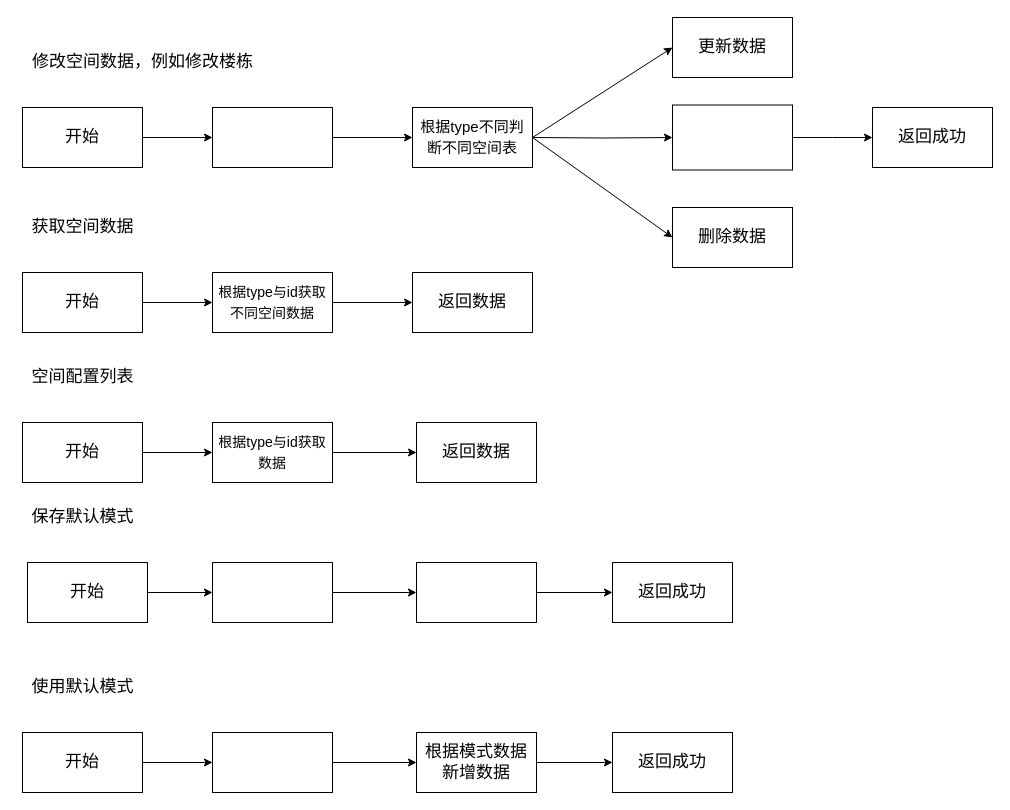
The diagram is 1010 pixels wide and 810 high, and some of its shapes have lost their labels. The centre of each missing label's shape, as x and y in pixels:
"保存数据作为一个默认模式" belongs at point 476,592.
"发送模式id与使用次数" belongs at point 272,762.
"新增数据" belongs at point 732,137.
"校验参数" belongs at point 272,137.
"根据type与id获取不同空间的数据" belongs at point 272,592.
